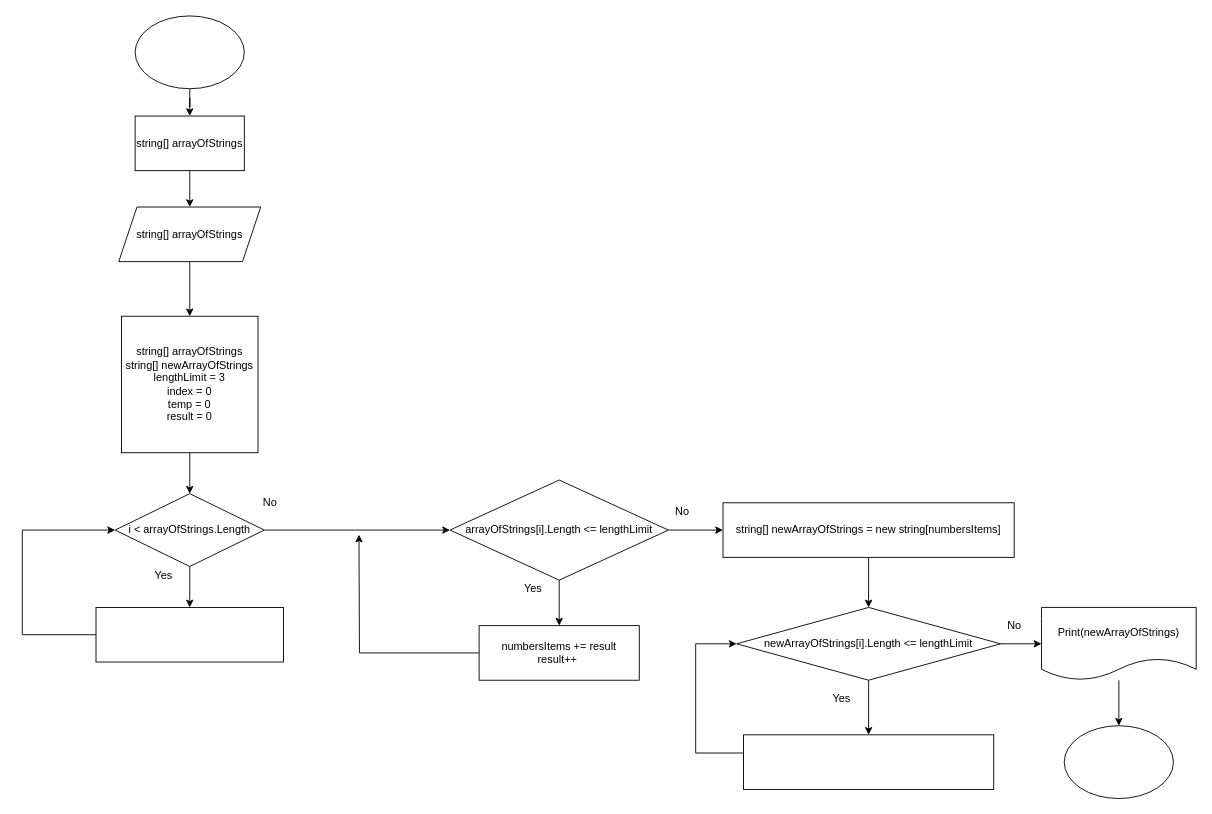
Image size: 1212x814. Some labels were removed from this diagram. The shapes that lost their labels are listed below. From the top down, each one's box as (x1, y1, x2, y2) in pixels, then its label:
(134, 15, 244, 89): Start
(95, 607, 283, 662): arrayOfStrings[i] = input new word index++
(743, 734, 994, 789): newArrayOfStrings [temp] = arrayOfStrings [i] temp++
(1063, 725, 1173, 799): END
